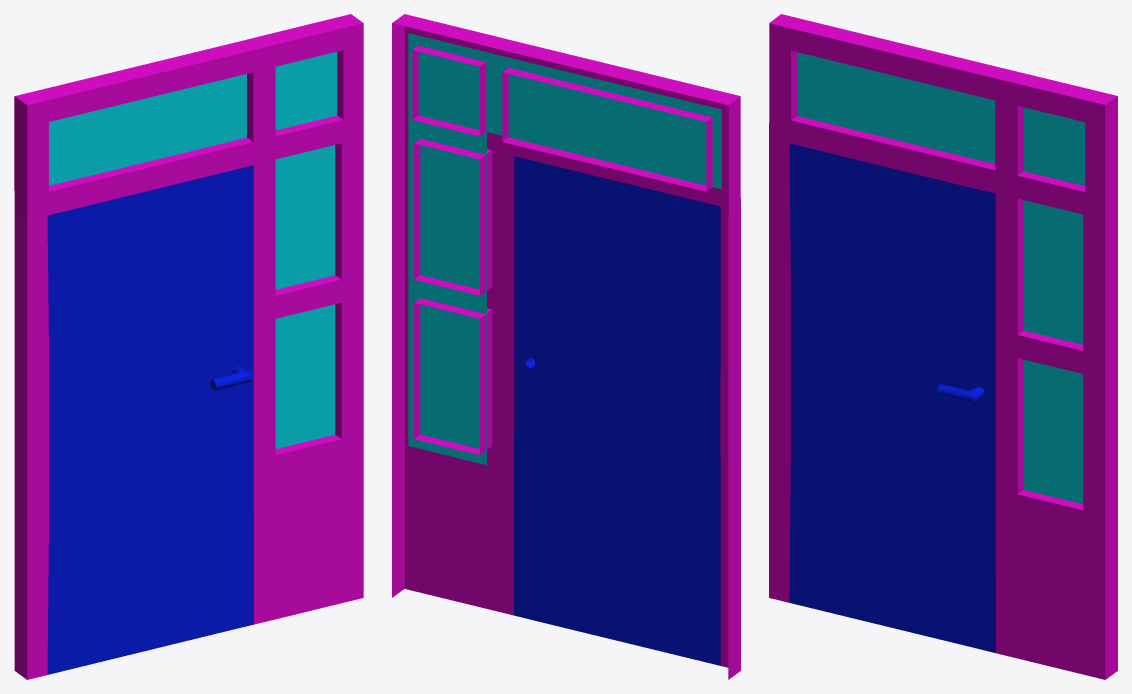
The model's file is Deur Closed R.fbx.
The picture shows the model from 3 angles, left to right: view 1: azimuth 30°, elevation 25°; view 2: azimuth 150°, elevation 25°; view 3: azimuth 330°, elevation 25°; orthographic projection.
Parts seen in each view (by area): view 1: DeurRadR, DeurRadRRaam; view 2: DeurRadR, DeurRadRRaam; view 3: DeurRadR, DeurRadRRaam.
Boxes of the visible parts, left/top/right/bottom form: DeurRadR: left=14, top=14, right=363, bottom=679; DeurRadRRaam: left=49, top=51, right=337, bottom=448; DeurRadR: left=392, top=14, right=740, bottom=679; DeurRadRRaam: left=408, top=33, right=721, bottom=464; DeurRadR: left=769, top=14, right=1117, bottom=679; DeurRadRRaam: left=797, top=52, right=1085, bottom=504.
Bounding box in the file's own units: 153 × 250 × 18.23.
